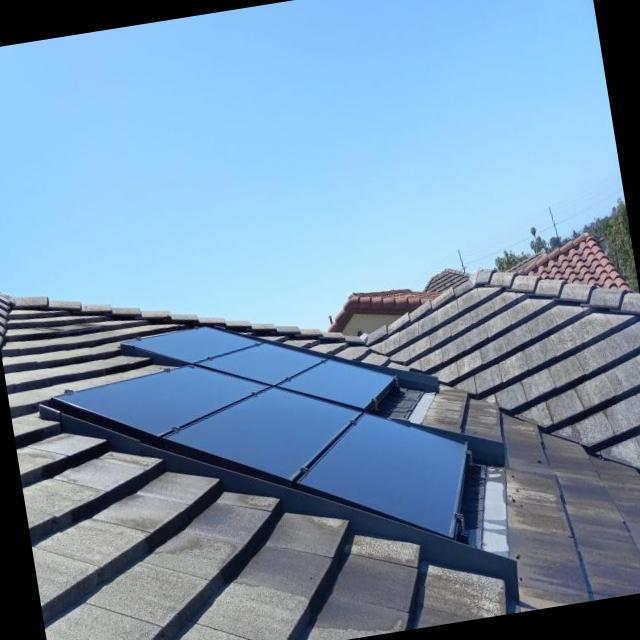no faulty: (292, 414, 469, 536), (170, 389, 356, 476), (60, 367, 267, 436), (199, 344, 322, 387), (286, 363, 389, 407), (131, 330, 259, 363)
